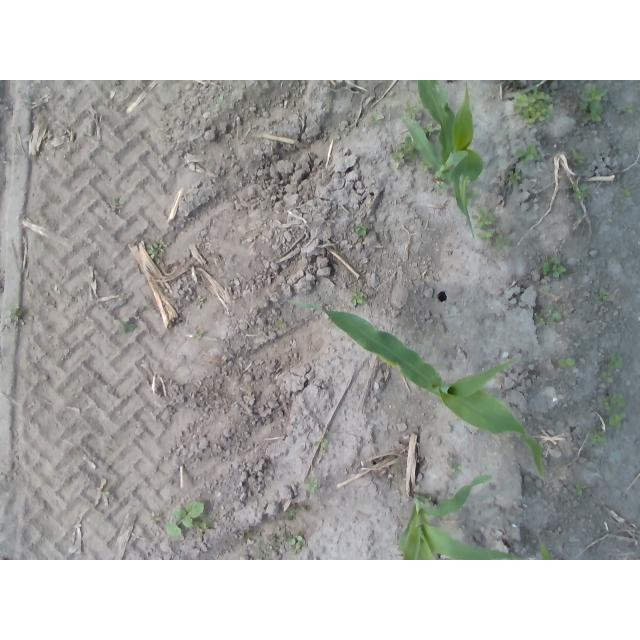Maize: (285, 299, 545, 479), (396, 474, 553, 560), (402, 80, 484, 240)
Weeds: (512, 87, 554, 125), (166, 502, 205, 537), (579, 85, 608, 124), (268, 530, 307, 554), (391, 135, 418, 169), (534, 303, 562, 329), (541, 255, 568, 280), (471, 207, 499, 229), (600, 392, 627, 412), (516, 142, 541, 163), (114, 317, 136, 334), (404, 99, 421, 120), (570, 182, 590, 199), (606, 412, 626, 429), (587, 428, 608, 444), (568, 148, 585, 167), (494, 231, 511, 250), (147, 242, 167, 258), (506, 167, 523, 185), (476, 228, 494, 245), (5, 303, 20, 323), (605, 354, 623, 370), (304, 477, 321, 493), (351, 287, 365, 306), (558, 356, 578, 368), (421, 122, 441, 134), (464, 187, 477, 205), (148, 511, 161, 526), (620, 102, 636, 114), (448, 462, 464, 473), (601, 369, 613, 383), (573, 485, 587, 496), (195, 295, 205, 309), (355, 225, 367, 236), (600, 291, 613, 301), (215, 95, 224, 109), (369, 112, 379, 124), (438, 181, 450, 191), (315, 438, 329, 446), (193, 330, 204, 340), (620, 188, 632, 197), (200, 521, 212, 530), (289, 507, 300, 515), (276, 321, 284, 328), (99, 490, 110, 494)
